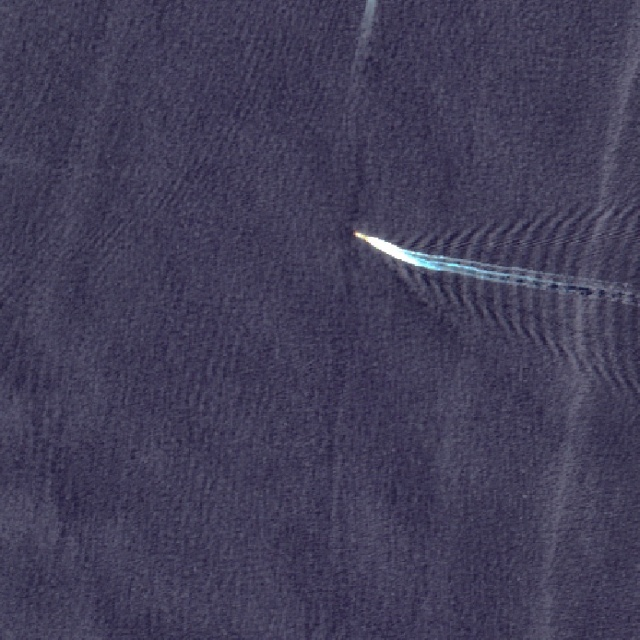wake: (335, 181, 610, 352)
